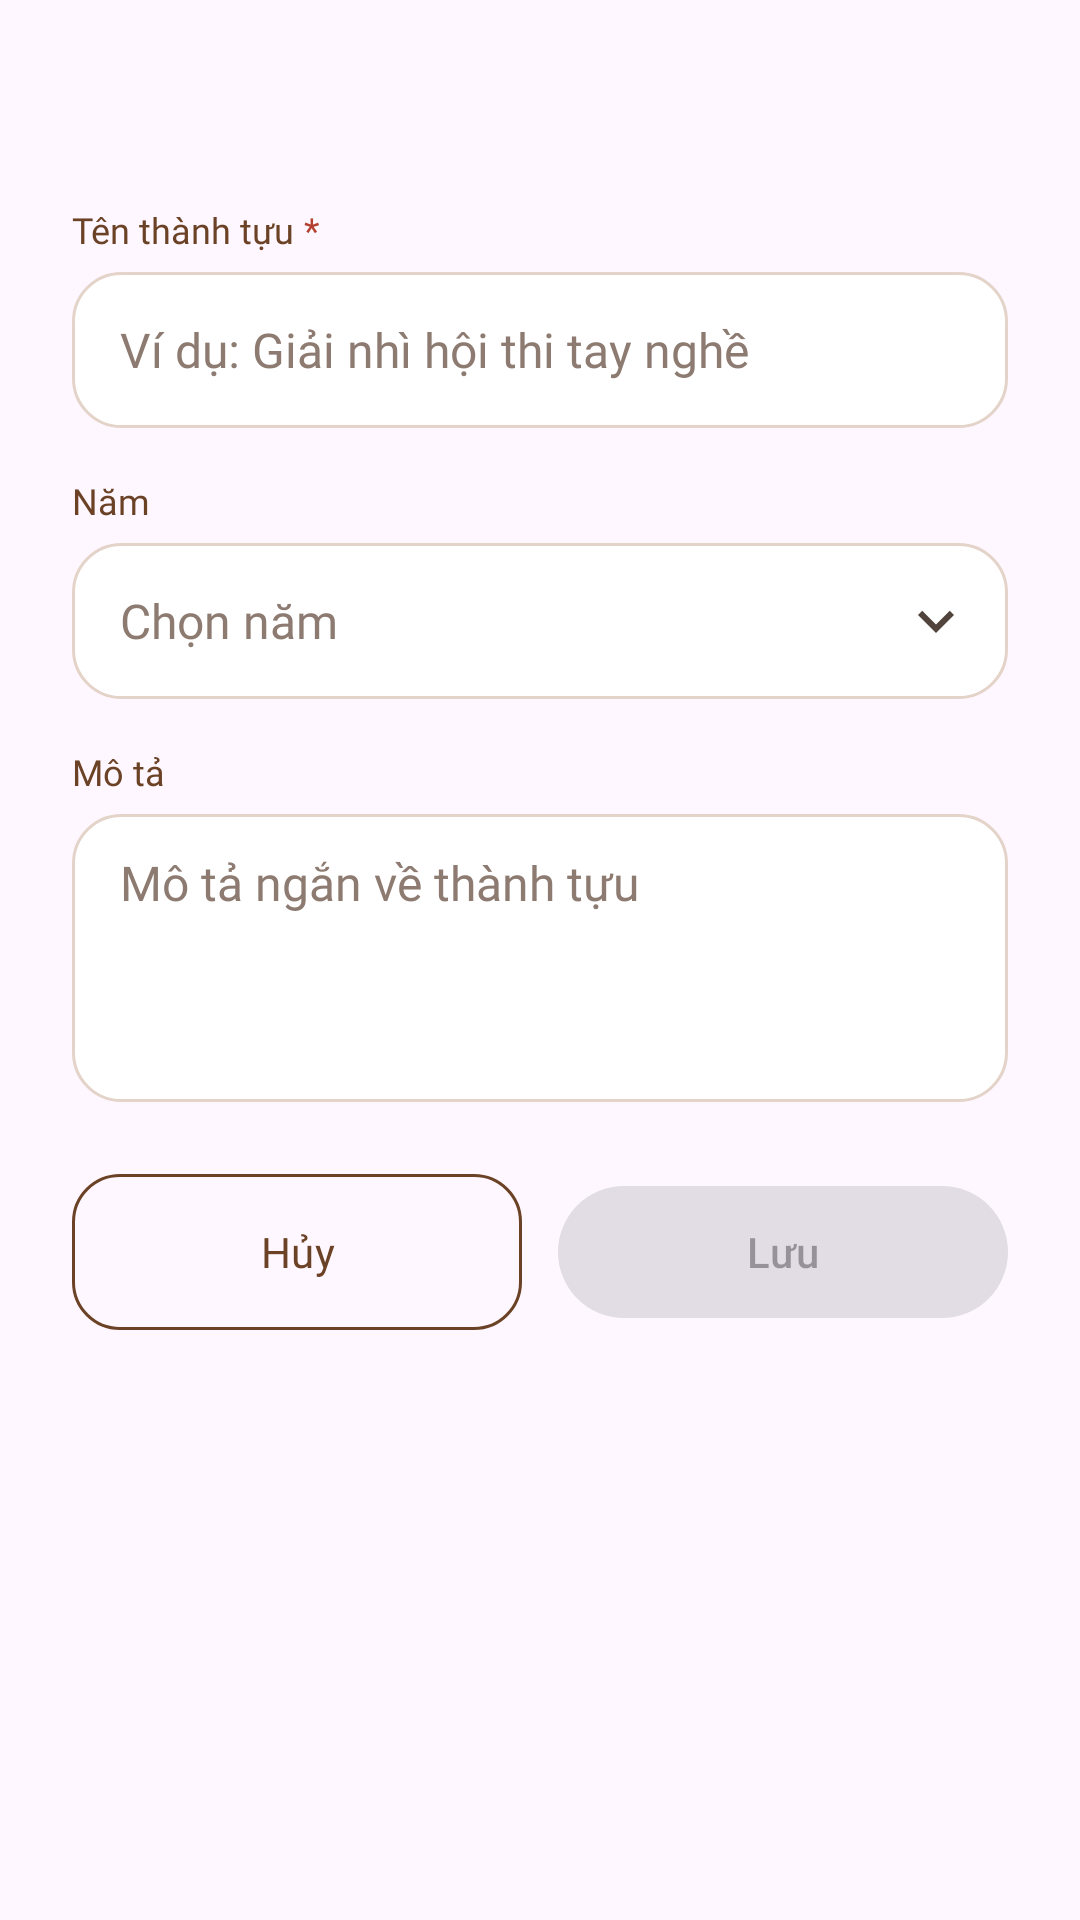

Point at icon controls on the screen. Image size 1080×1920, points as point (x, y).
expand more: point (936, 622)
